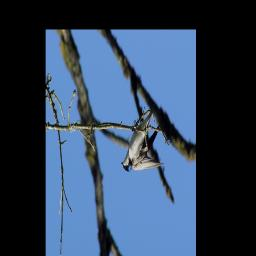Swallow: (121, 105, 164, 174)
